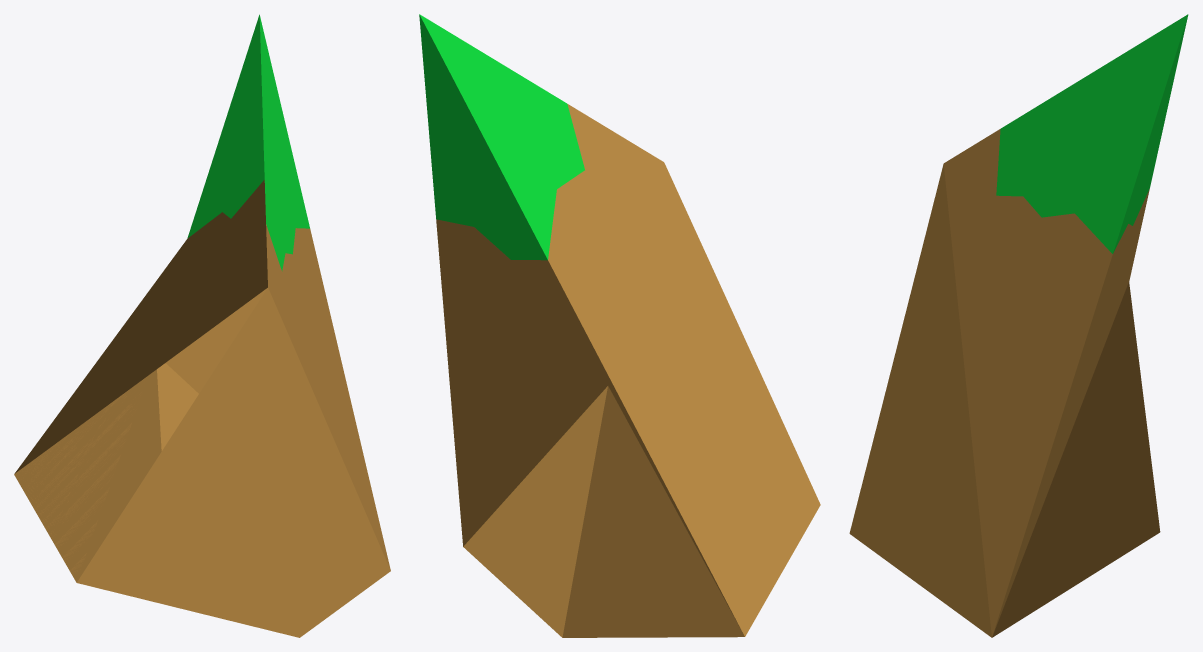
Rendered from NEWmontain.fbx.
3 views of the same model, side by side, from view 1: azimuth 30°, elevation 25°; view 2: azimuth 150°, elevation 25°; view 3: azimuth 270°, elevation 25° (orthographic). The views are drawn at different scales.
Visible parts, largest first — view 1: Cube; view 2: Cube; view 3: Cube.
Part boxes in pixels (left/top/right/bottom): Cube: left=14, top=14, right=390, bottom=637; Cube: left=419, top=14, right=820, bottom=637; Cube: left=849, top=14, right=1188, bottom=637.
Size of the model in its own units: 1542 by 2236 by 1152.
